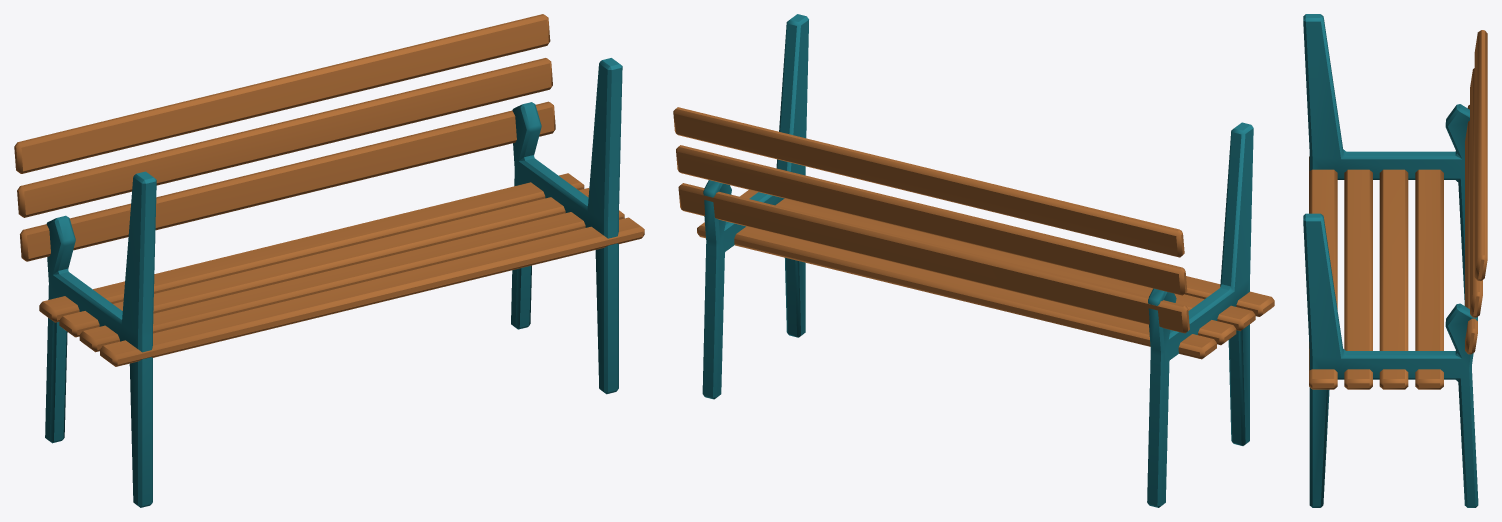
File: bench.glb
The picture shows the model from 3 angles, left to right: view 1: azimuth 30°, elevation 25°; view 2: azimuth 150°, elevation 25°; view 3: azimuth 270°, elevation 25°; orthographic projection. The views are drawn at different scales.
Parts seen in each view (by area): view 1: Bench Wood, Bench Teal paint; view 2: Bench Wood, Bench Teal paint; view 3: Bench Wood, Bench Teal paint.
Boxes of the visible parts, x1=… form: Bench Wood: x1=14, y1=14, x2=644, y2=366; Bench Teal paint: x1=45, y1=58, x2=622, y2=507; Bench Wood: x1=673, y1=107, x2=1274, y2=359; Bench Teal paint: x1=702, y1=14, x2=1253, y2=507; Bench Wood: x1=1309, y1=30, x2=1487, y2=389; Bench Teal paint: x1=1303, y1=14, x2=1478, y2=507.
Size of the model in its own units: 1.6 by 0.95 by 0.5474.
